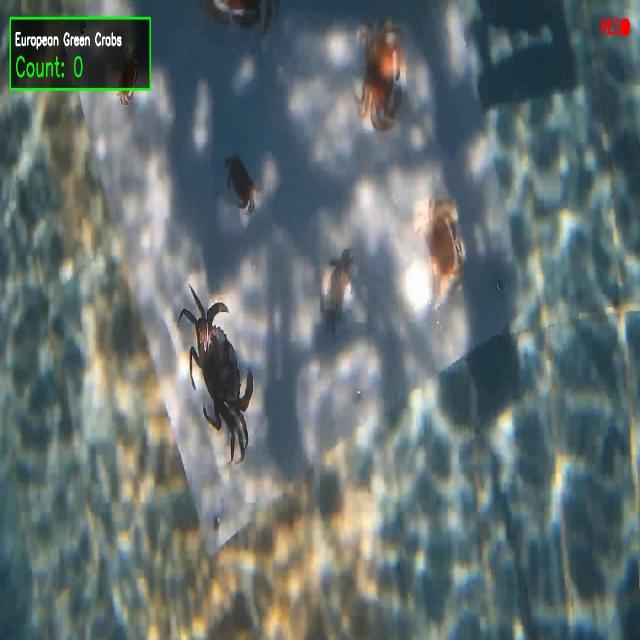European_Green_Crab: (168, 267, 269, 473), (320, 242, 364, 337)
